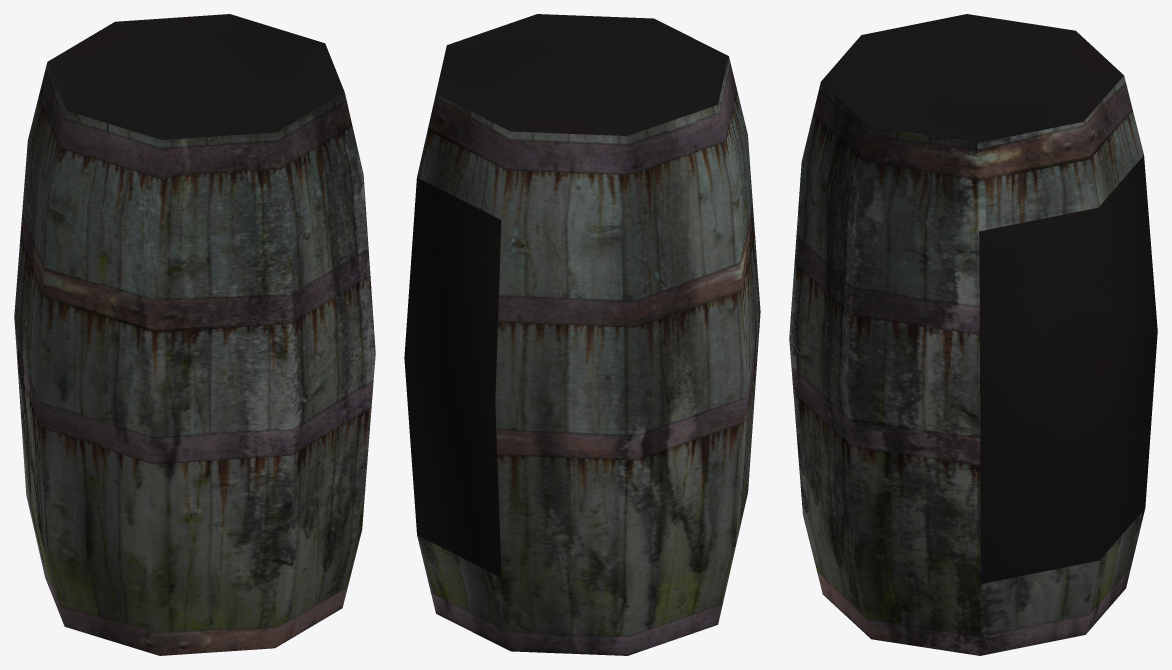
The model's file is Barrel_damaged_LOD03.fbx.
3 renders of one model, left to right at view 1: azimuth 30°, elevation 25°; view 2: azimuth 150°, elevation 25°; view 3: azimuth 270°, elevation 25°, orthographic.
Visible parts, largest first — view 1: Mesh Object; view 2: Mesh Object; view 3: Mesh Object.
Boxes of the visible parts, <box> form: Mesh Object: <box>14,14,375,655</box>; Mesh Object: <box>404,14,760,655</box>; Mesh Object: <box>789,14,1157,655</box>.
Size of the model in its own units: 0.7084 by 1.09 by 0.7084.
